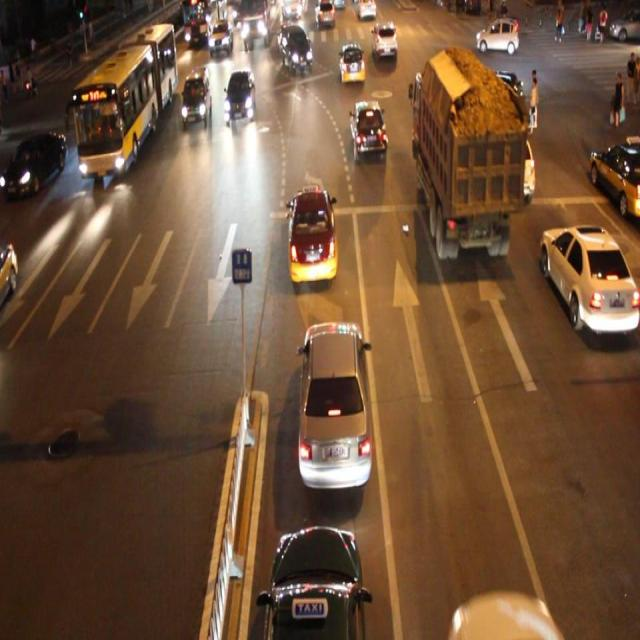bus: (413, 59, 518, 260)
car: (297, 319, 373, 495), (260, 526, 367, 640), (538, 224, 640, 330), (287, 188, 339, 284), (1, 131, 67, 198), (494, 128, 535, 198), (349, 98, 387, 162), (484, 68, 524, 125), (88, 58, 131, 110), (224, 68, 256, 122), (280, 28, 314, 75), (338, 42, 365, 86), (372, 20, 398, 59)
truck: (180, 68, 212, 125)
van: (73, 24, 176, 176)
